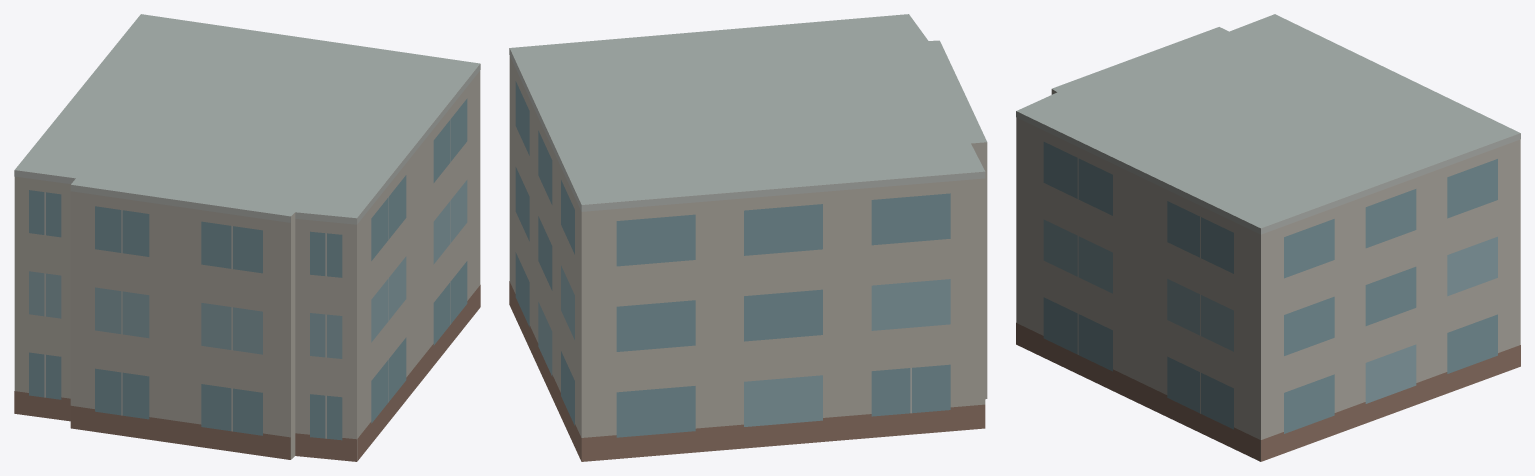
The model's file is survey-upis-32619262.glb.
3 views of the same model, side by side, from view 1: azimuth 30°, elevation 25°; view 2: azimuth 150°, elevation 25°; view 3: azimuth 270°, elevation 25° (orthographic). The views are drawn at different scales.
Parts seen in each view (by area): view 1: survey-upis-32619262.tmp; view 2: survey-upis-32619262.tmp; view 3: survey-upis-32619262.tmp.
Boxes of the visible parts, x1,y1,x2,y2 form: survey-upis-32619262.tmp: [14, 14, 480, 461]; survey-upis-32619262.tmp: [509, 14, 987, 461]; survey-upis-32619262.tmp: [1016, 14, 1520, 461].
Size of the model in its own units: 18.04 by 9.15 by 17.93.
